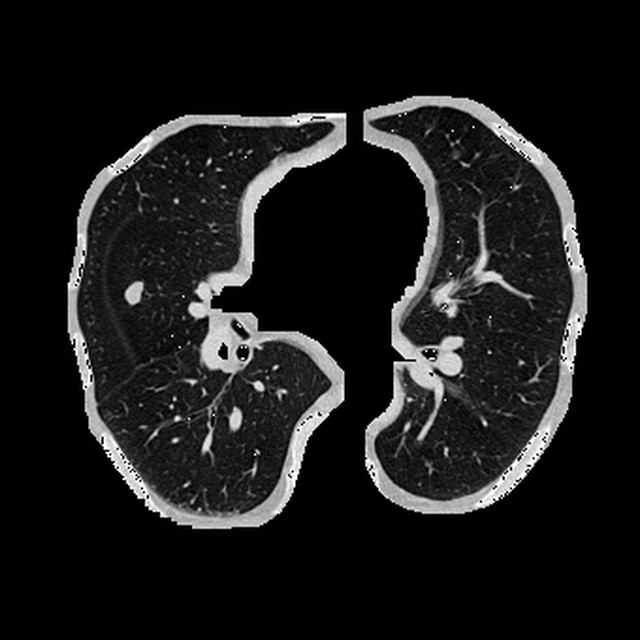PN: (122, 280, 145, 303)
